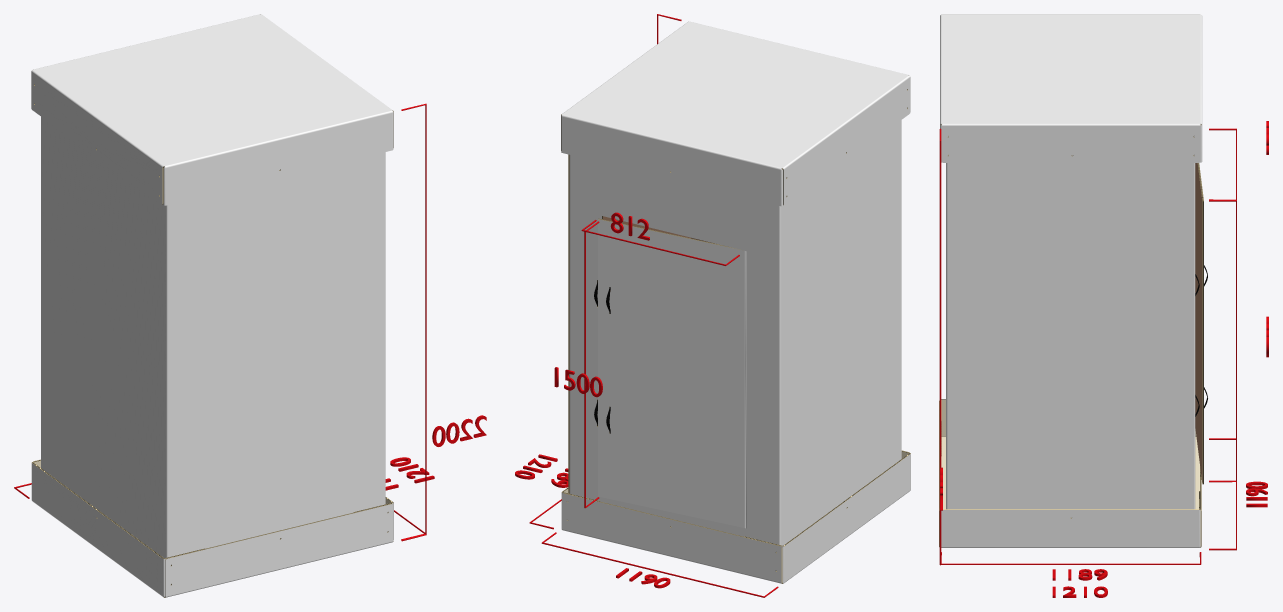
Rendered from 3D MOFLY.gltf.
The picture shows the model from 3 angles, left to right: view 1: azimuth 30°, elevation 25°; view 2: azimuth 150°, elevation 25°; view 3: azimuth 270°, elevation 25°; orthographic projection. The views are drawn at different scales.
Visible parts, largest first — view 1: GRAN_BOX_ARD-node.001, TAPA_ARD-node.001, TAPA_ARD-node, Plano.002, Texto.002; view 2: GRAN_BOX_ARD-node.001, TAPA_ARD-node.001, TAPA_ARD-node, Texto.005, Plano.004, Plano; view 3: GRAN_BOX_ARD-node.001, TAPA_ARD-node.001, TAPA_ARD-node, Plano.002, Plano.001, Texto.
Boxes of the visible parts, x1=… form: GRAN_BOX_ARD-node.001: x1=41, y1=117, x2=385, y2=584; TAPA_ARD-node.001: x1=31, y1=14, x2=393, y2=205; TAPA_ARD-node: x1=31, y1=459, x2=393, y2=597; Plano.002: x1=401, y1=103, x2=426, y2=541; Texto.002: x1=432, y1=415, x2=486, y2=446; GRAN_BOX_ARD-node.001: x1=568, y1=120, x2=901, y2=570; TAPA_ARD-node.001: x1=561, y1=21, x2=910, y2=206; TAPA_ARD-node: x1=561, y1=450, x2=910, y2=583; Texto.005: x1=554, y1=367, x2=602, y2=397; Plano.004: x1=584, y1=221, x2=599, y2=508; Plano: x1=541, y1=532, x2=778, y2=597; GRAN_BOX_ARD-node.001: x1=946, y1=154, x2=1203, y2=517; TAPA_ARD-node.001: x1=940, y1=14, x2=1202, y2=162; TAPA_ARD-node: x1=939, y1=399, x2=1201, y2=547; Plano.002: x1=939, y1=128, x2=941, y2=565; Plano.001: x1=941, y1=552, x2=1201, y2=564; Texto: x1=1246, y1=481, x2=1267, y2=507.
Bounding box in the file's own units: 1.79 × 2.26 × 1.59.
Materials: 7 (2 with a texture image).
